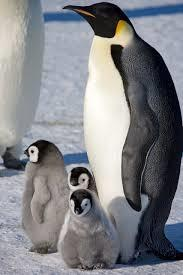emporer: (54, 1, 183, 272)
